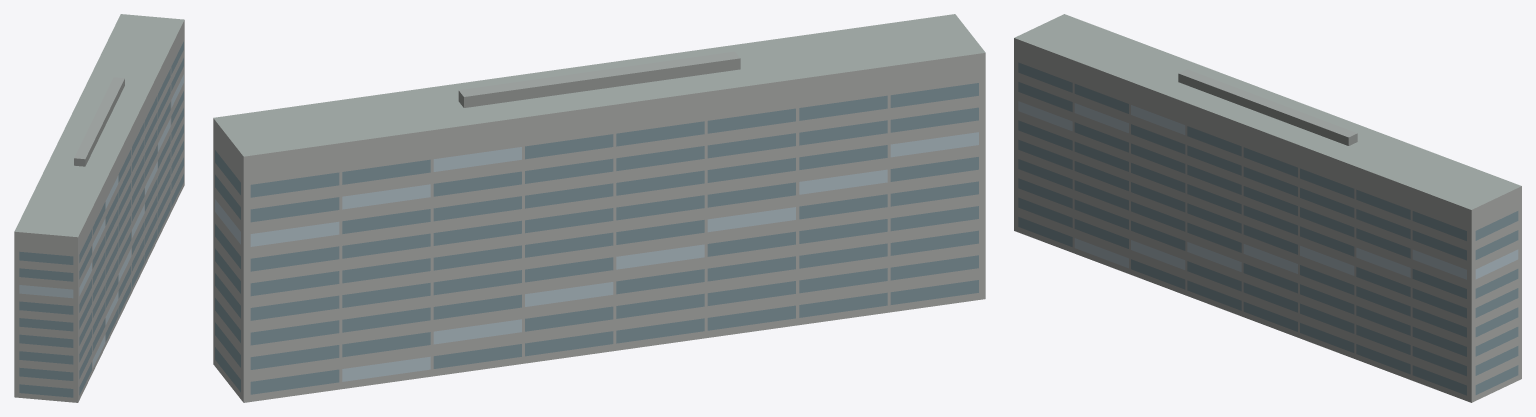
File: fallback-olympic-athletes-village-306.glb
3 renders of one model, left to right at view 1: azimuth 30°, elevation 25°; view 2: azimuth 150°, elevation 25°; view 3: azimuth 270°, elevation 25°, orthographic. The views are drawn at different scales.
Visible parts, largest first — view 1: fallback-olympic-athletes-village-306; view 2: fallback-olympic-athletes-village-306; view 3: fallback-olympic-athletes-village-306.
Part boxes in pixels (x1,y1,x2,y2): fallback-olympic-athletes-village-306: [14, 14, 184, 402]; fallback-olympic-athletes-village-306: [213, 14, 985, 402]; fallback-olympic-athletes-village-306: [1014, 14, 1521, 402].
Bounding box in the file's own units: 66.46 × 31.87 × 72.76.
